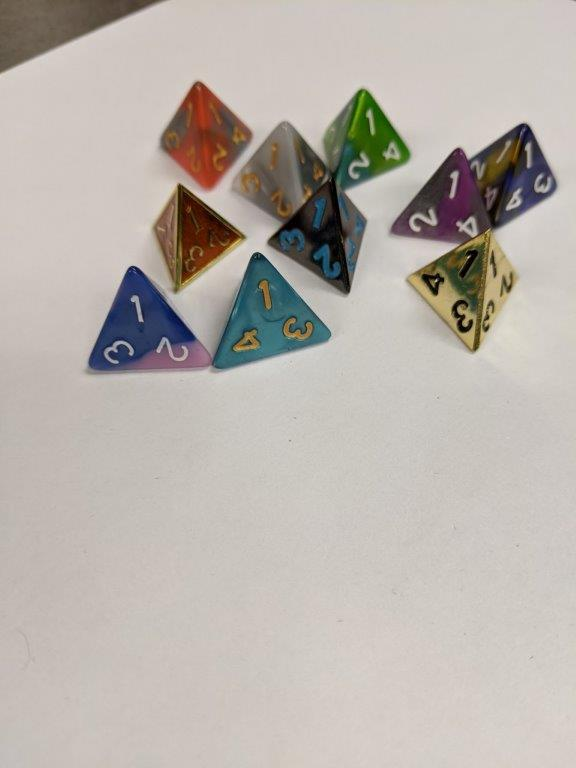d4-1: (402, 228, 520, 353), (215, 250, 332, 370), (83, 267, 215, 371), (156, 77, 252, 190), (468, 121, 561, 231), (271, 184, 366, 291), (149, 186, 246, 290), (388, 142, 488, 242), (321, 81, 409, 186), (239, 115, 328, 218)
